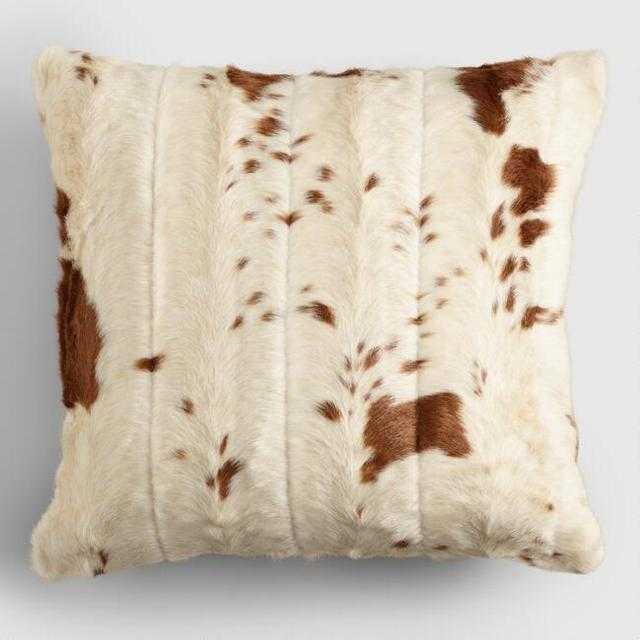pillow: (27, 43, 609, 581)
